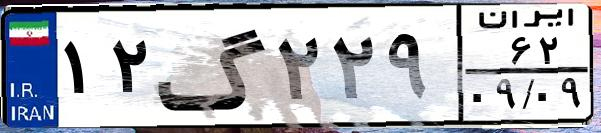0: (470, 70, 495, 125), (535, 70, 560, 125)
1: (57, 26, 110, 100)
2: (270, 28, 330, 110), (330, 28, 385, 110), (110, 28, 156, 98), (537, 27, 568, 80)
6: (508, 27, 537, 80)
9: (385, 28, 445, 110), (560, 70, 590, 125), (495, 70, 520, 125)
گ: (156, 12, 270, 120)
